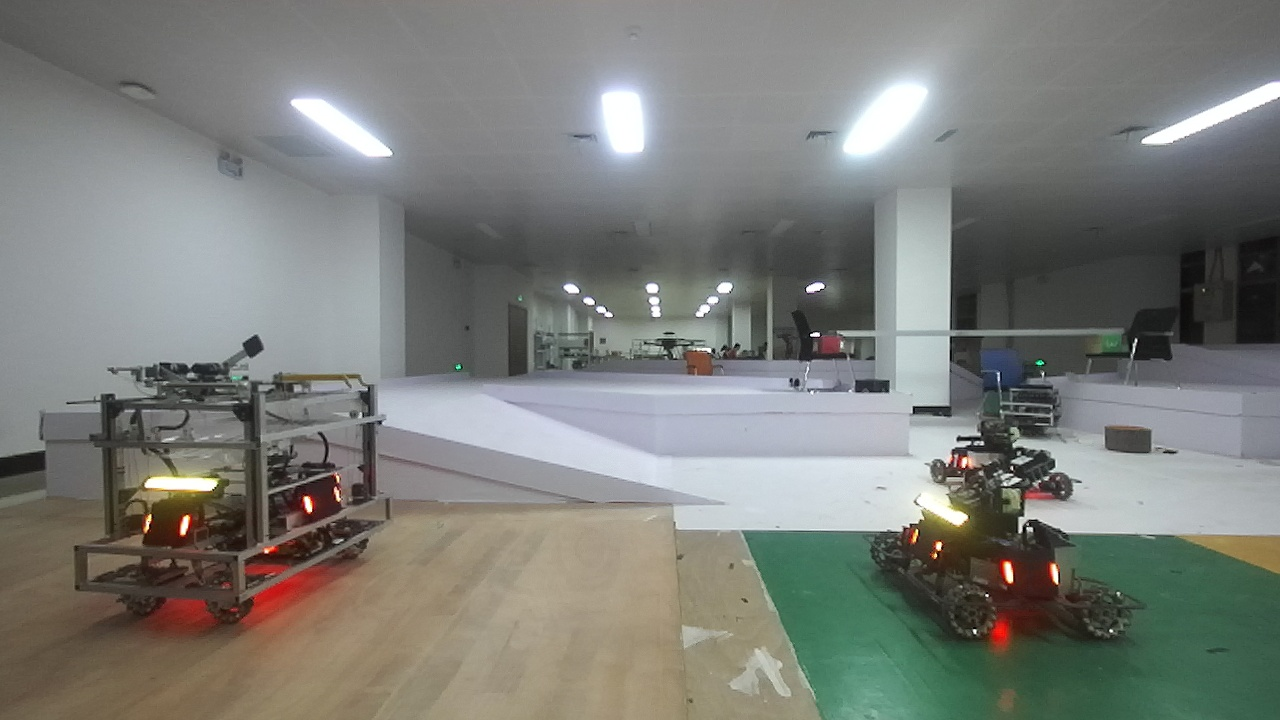car: (71, 334, 397, 620), (892, 483, 1147, 641), (933, 407, 1097, 504)
